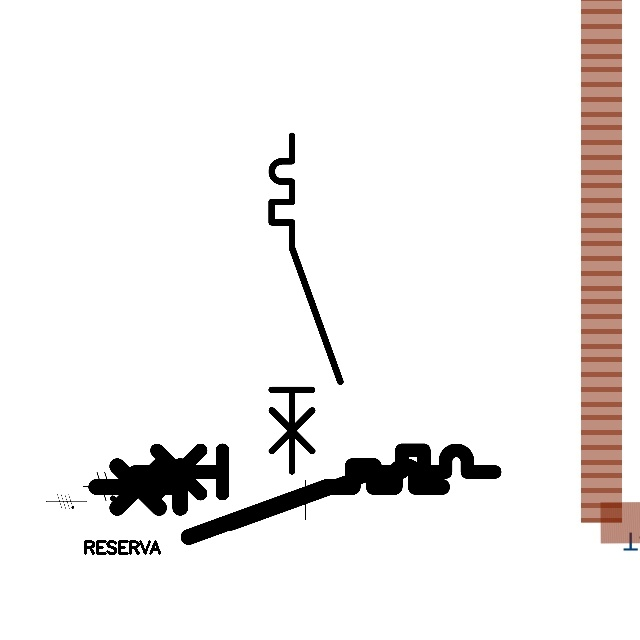interruptor_termomagnetico: (125, 441, 503, 533), (87, 457, 451, 546), (263, 127, 349, 480)
